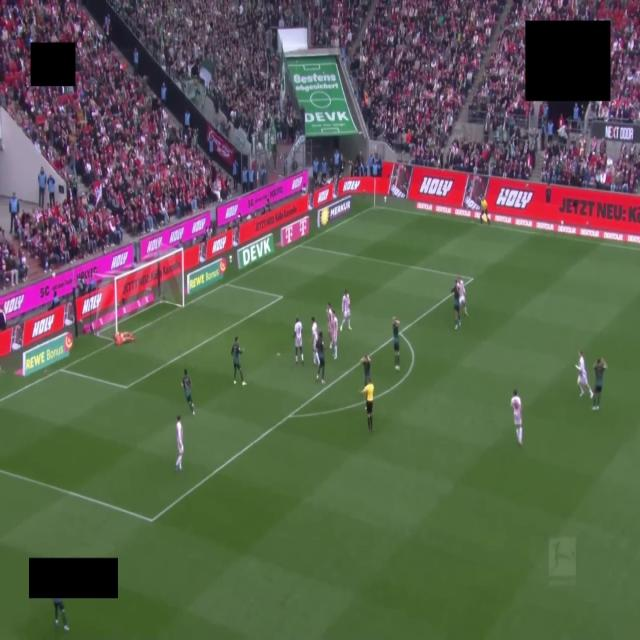player: (576, 351, 593, 398), (231, 336, 246, 385), (593, 358, 606, 410), (511, 390, 522, 446), (182, 369, 194, 415), (451, 281, 461, 329), (54, 599, 69, 631), (293, 317, 303, 364), (316, 332, 325, 383), (340, 290, 351, 330), (175, 416, 183, 471), (392, 318, 399, 370), (330, 314, 338, 359), (458, 277, 467, 315), (311, 317, 318, 365), (361, 355, 370, 384), (327, 304, 333, 332)
referee: (363, 381, 374, 433)
